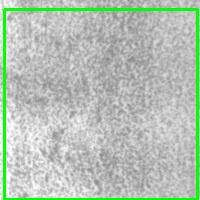pitted_surface: (4, 9, 197, 199)
